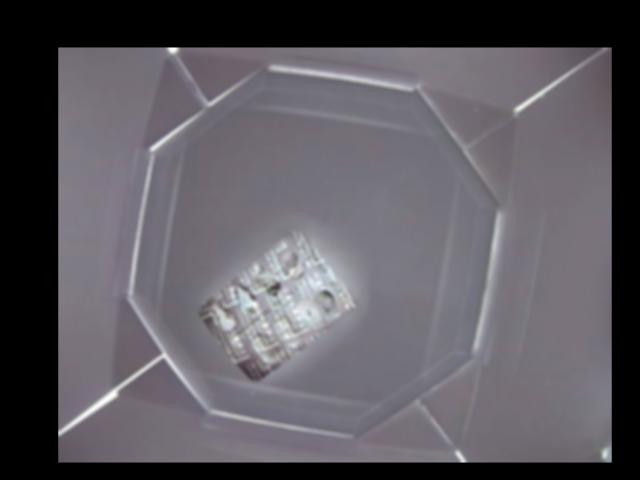Medicine: (200, 229, 356, 381)
